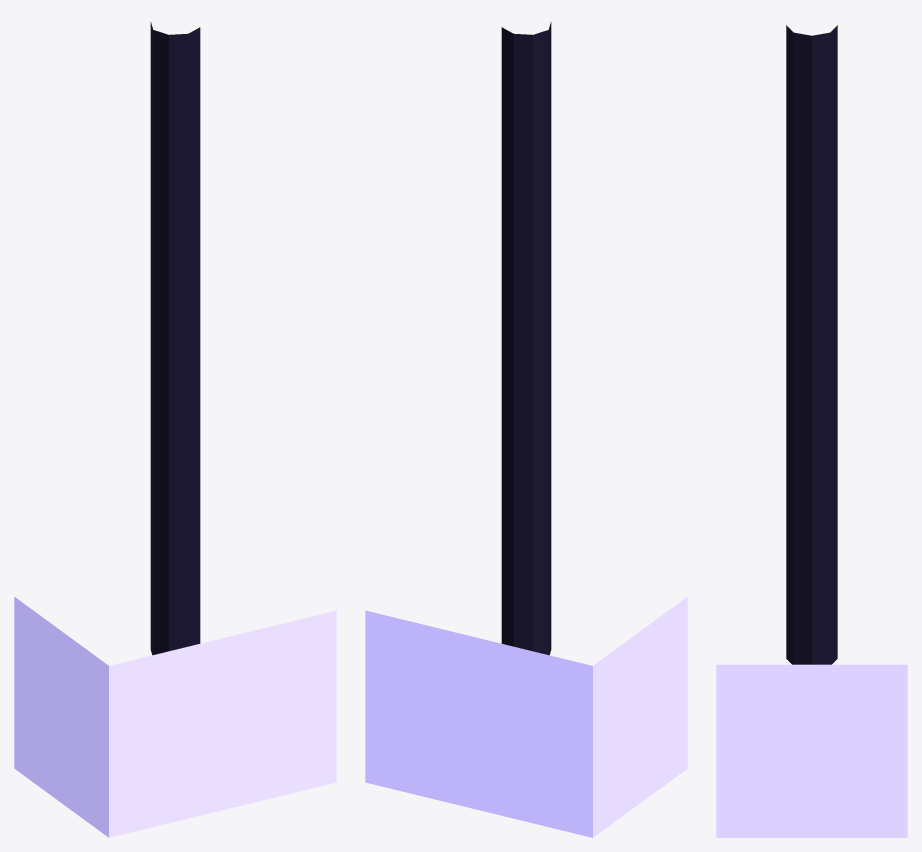
Rendered from faceless-void.glb.
3 views of the same model, side by side, from view 1: azimuth 30°, elevation 25°; view 2: azimuth 150°, elevation 25°; view 3: azimuth 270°, elevation 25° (orthographic).
Parts seen in each view (by area): view 1: faceless-void-head, faceless-void-haft; view 2: faceless-void-head, faceless-void-haft; view 3: faceless-void-head, faceless-void-haft.
Part boxes in pixels (bbox=[...]): faceless-void-head: bbox=[14, 597, 336, 837]; faceless-void-haft: bbox=[150, 22, 200, 655]; faceless-void-head: bbox=[365, 597, 687, 837]; faceless-void-haft: bbox=[501, 22, 551, 655]; faceless-void-head: bbox=[716, 664, 907, 837]; faceless-void-haft: bbox=[786, 25, 837, 664].
Size of the model in its own units: 0.36 by 1.13 by 0.26.
